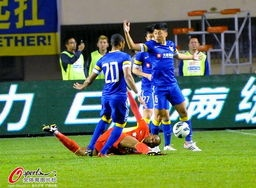falling: (36, 85, 170, 158)
